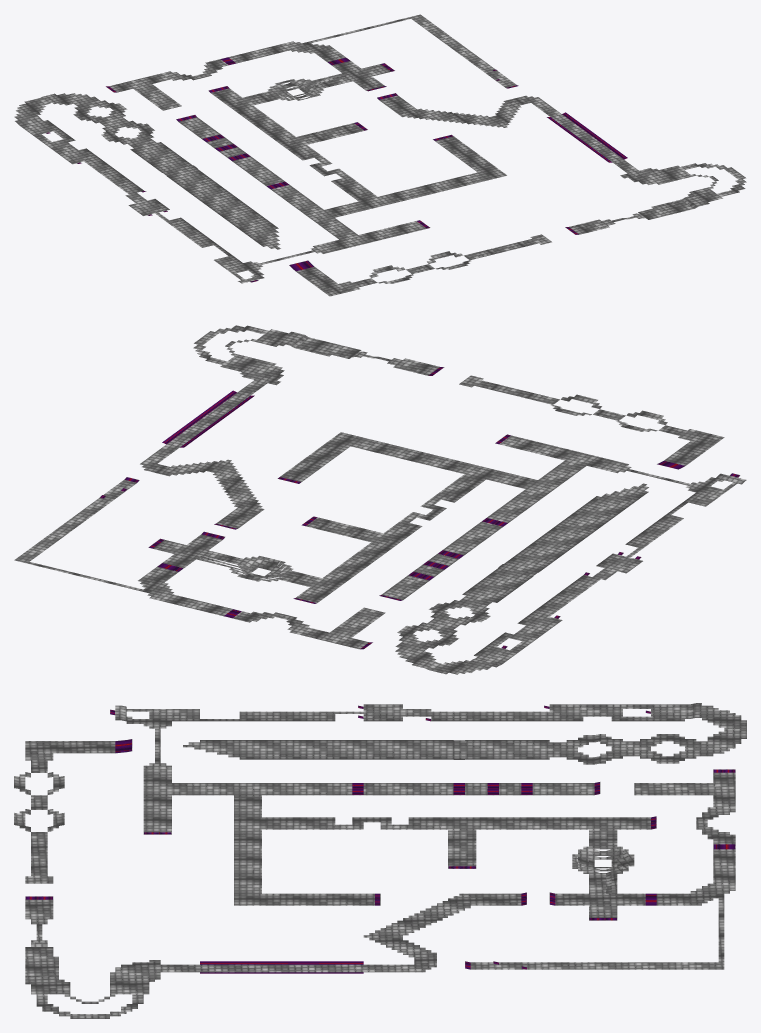
3 renders of one model, top to bottom at view 1: azimuth 30°, elevation 25°; view 2: azimuth 150°, elevation 25°; view 3: azimuth 270°, elevation 25°, orthographic. The views are drawn at different scales.
Visible parts, largest first — view 1: nightmare_SKP__road_lila, nightmare_SKP__boost_pfeil; view 2: nightmare_SKP__road_lila, nightmare_SKP__boost_pfeil; view 3: nightmare_SKP__road_lila, nightmare_SKP__boost_pfeil.
Part boxes in pixels (x1,y1,x2,y2): nightmare_SKP__road_lila: (14,14,746,296); nightmare_SKP__boost_pfeil: (46,57,627,282); nightmare_SKP__road_lila: (14,325,746,674); nightmare_SKP__boost_pfeil: (100,367,739,649); nightmare_SKP__road_lila: (14,703,746,1018); nightmare_SKP__boost_pfeil: (25,706,735,973).
Bounding box in the file's own units: 93049 × 725 × 91597.
2 materials, 2 textured.
